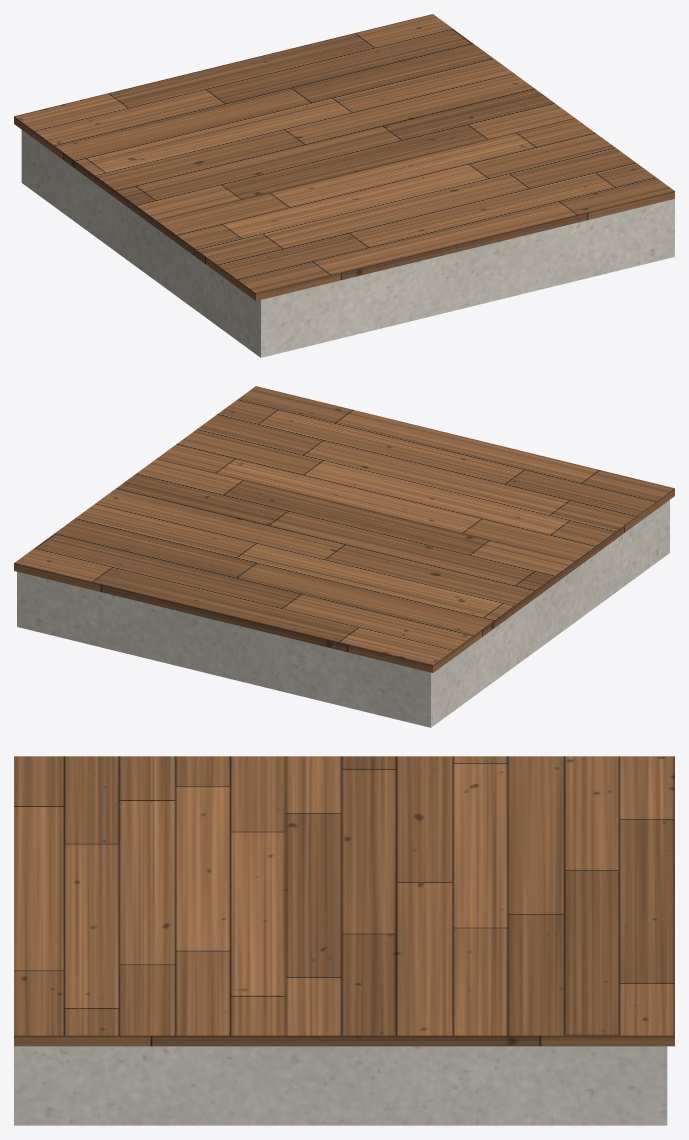
The model's file is floor_floor_u_e0101.glb.
The picture shows the model from 3 angles, top to bottom: view 1: azimuth 30°, elevation 25°; view 2: azimuth 150°, elevation 25°; view 3: azimuth 270°, elevation 25°; orthographic projection. The views are drawn at different scales.
Parts seen in each view (by area): view 1: floor_floor_u_e0101_floor, floor_floor_u_e0101_plaster; view 2: floor_floor_u_e0101_floor, floor_floor_u_e0101_plaster; view 3: floor_floor_u_e0101_floor, floor_floor_u_e0101_plaster.
Part boxes in pixels (x1,y1,x2,y2): floor_floor_u_e0101_floor: (14,14,674,300); floor_floor_u_e0101_plaster: (21,130,674,357); floor_floor_u_e0101_floor: (14,386,674,672); floor_floor_u_e0101_plaster: (17,500,669,727); floor_floor_u_e0101_floor: (14,756,674,1046); floor_floor_u_e0101_plaster: (14,1046,667,1125).
Bounding box in the file's own units: 1.7 × 0.255 × 1.7.
Materials: 2 (2 with a texture image).
